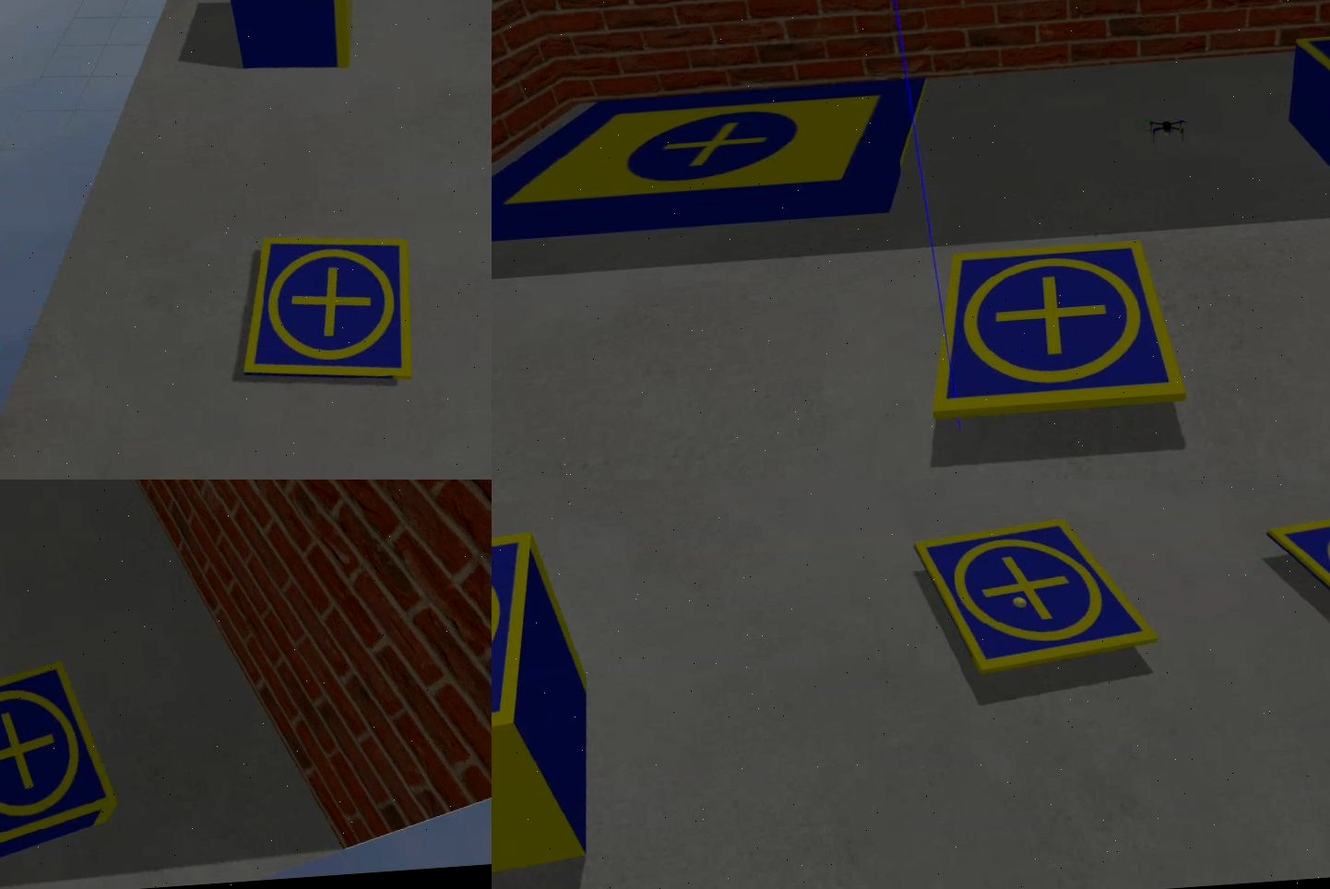large_base: (493, 77, 939, 249)
small_base: (920, 236, 1191, 422), (909, 509, 1164, 682), (232, 231, 418, 389), (1, 660, 125, 859), (1261, 509, 1330, 649)
